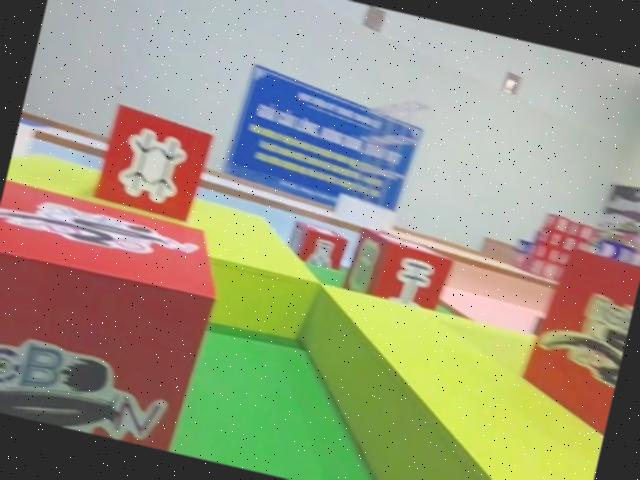R1: (0, 174, 234, 454), (509, 240, 640, 445)
R2 Fake: (337, 219, 459, 320)
R2 Real: (90, 100, 218, 227), (283, 217, 352, 277)
